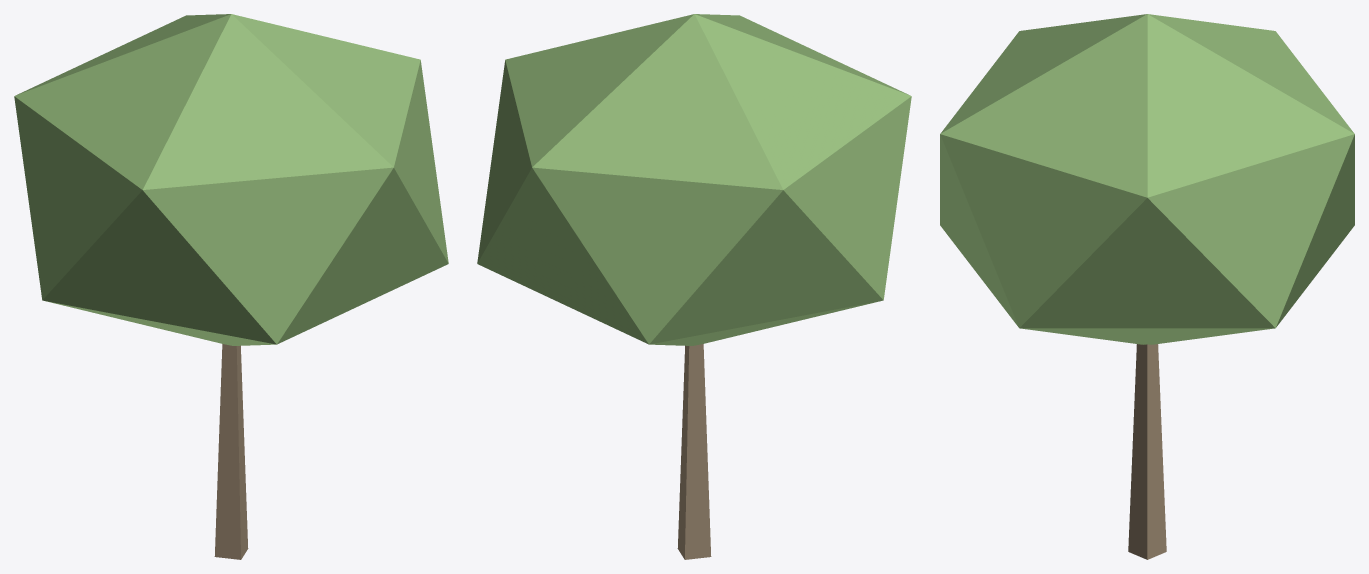
Rendered from apple_lod.glb.
The picture shows the model from 3 angles, left to right: view 1: azimuth 30°, elevation 25°; view 2: azimuth 150°, elevation 25°; view 3: azimuth 270°, elevation 25°; orthographic projection.
Visible parts, largest first — view 1: apple_lod; view 2: apple_lod; view 3: apple_lod.
Boxes of the visible parts, x1,y1,x2,y2 form: apple_lod: [14, 14, 448, 559]; apple_lod: [477, 14, 911, 559]; apple_lod: [940, 14, 1354, 559].
Size of the model in its own units: 3.4 by 4.62 by 3.23.
